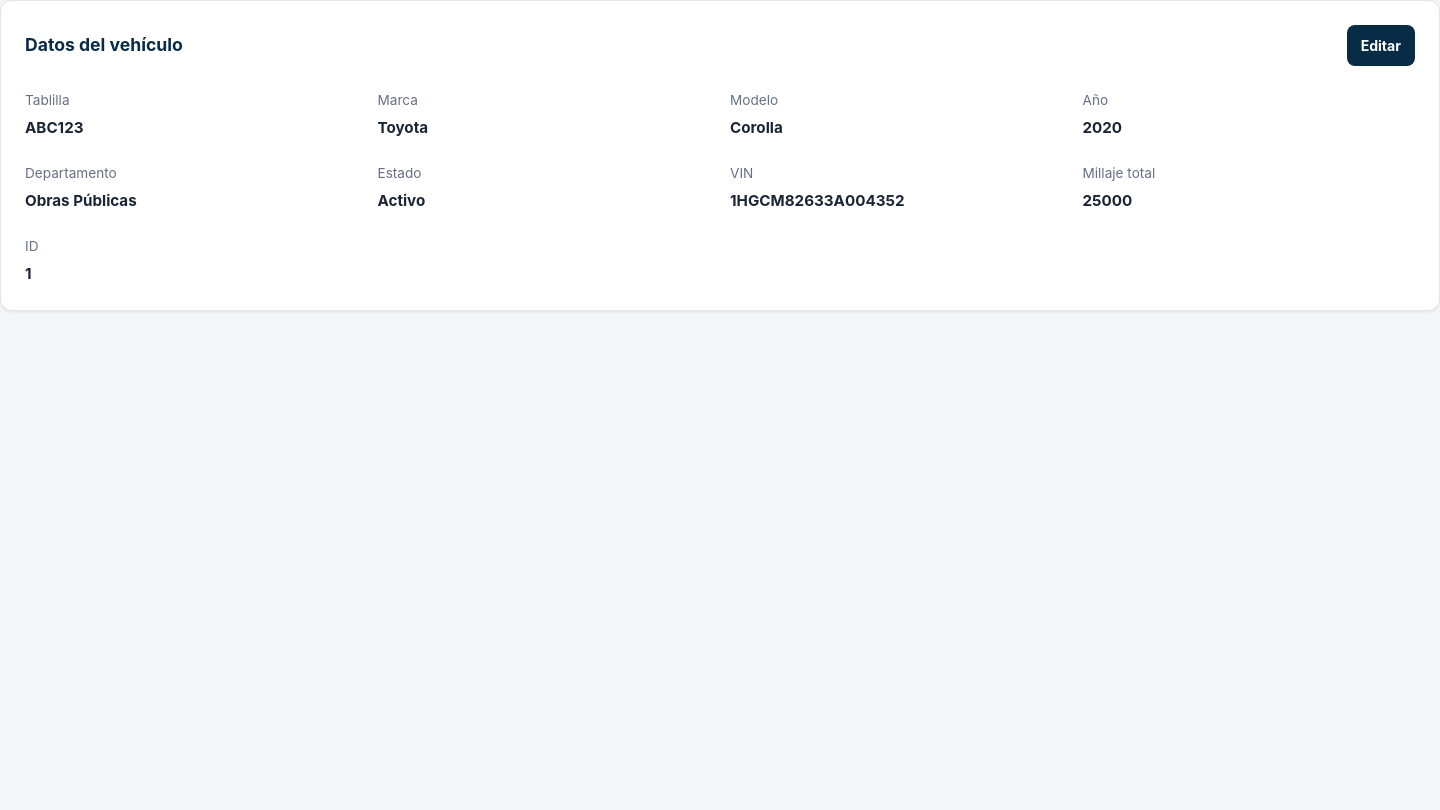
Test: Vehicle Information - Component Tests › VI-UT-FE-08 opens the edit form
Click the button "Editar". click: click(1381, 46)
box: [1347,25,1415,66]
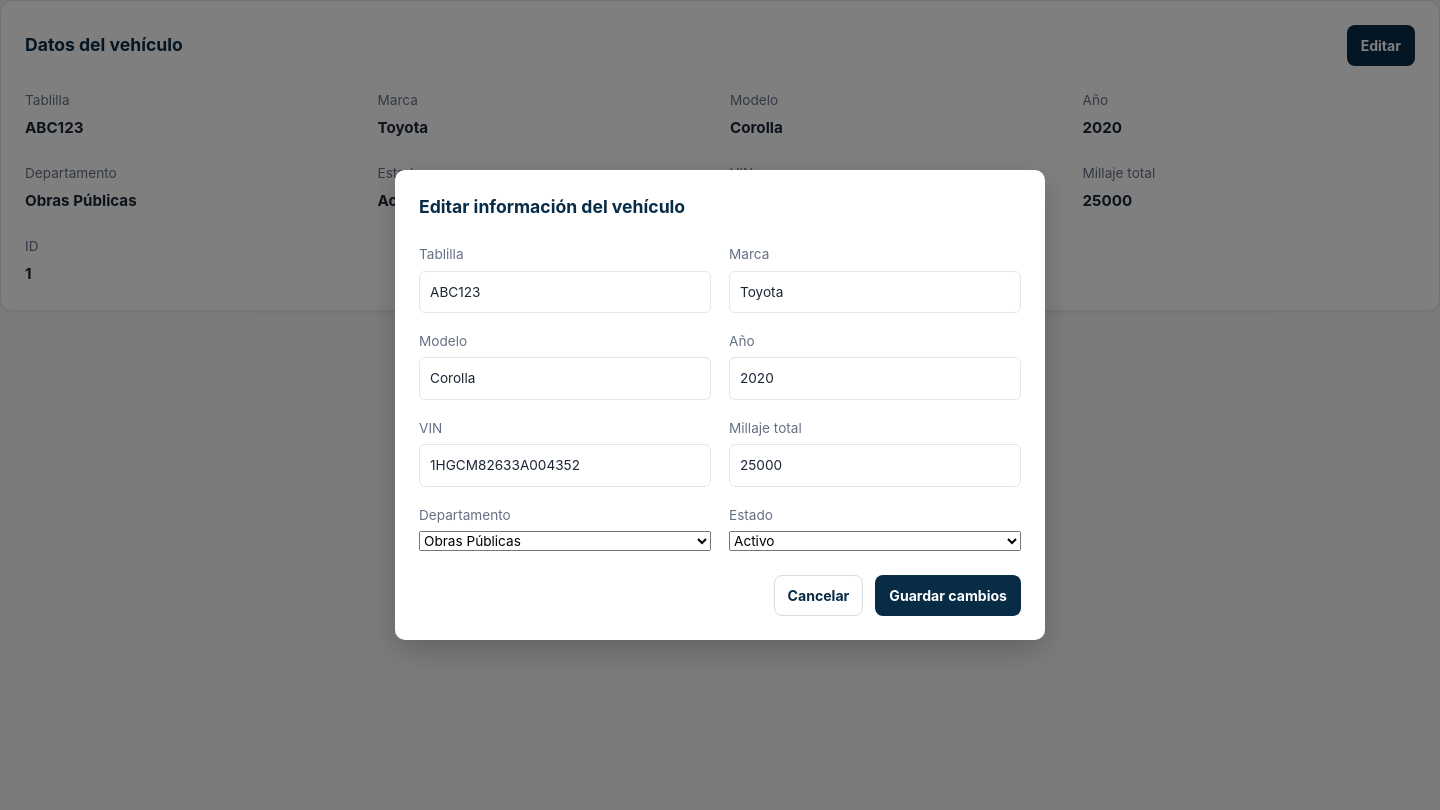
Expected: the heading "Editar información del vehículo" is shown, [419,196,685,217]
Expected: the button "Guardar cambios" is shown, [875,575,1021,616]
